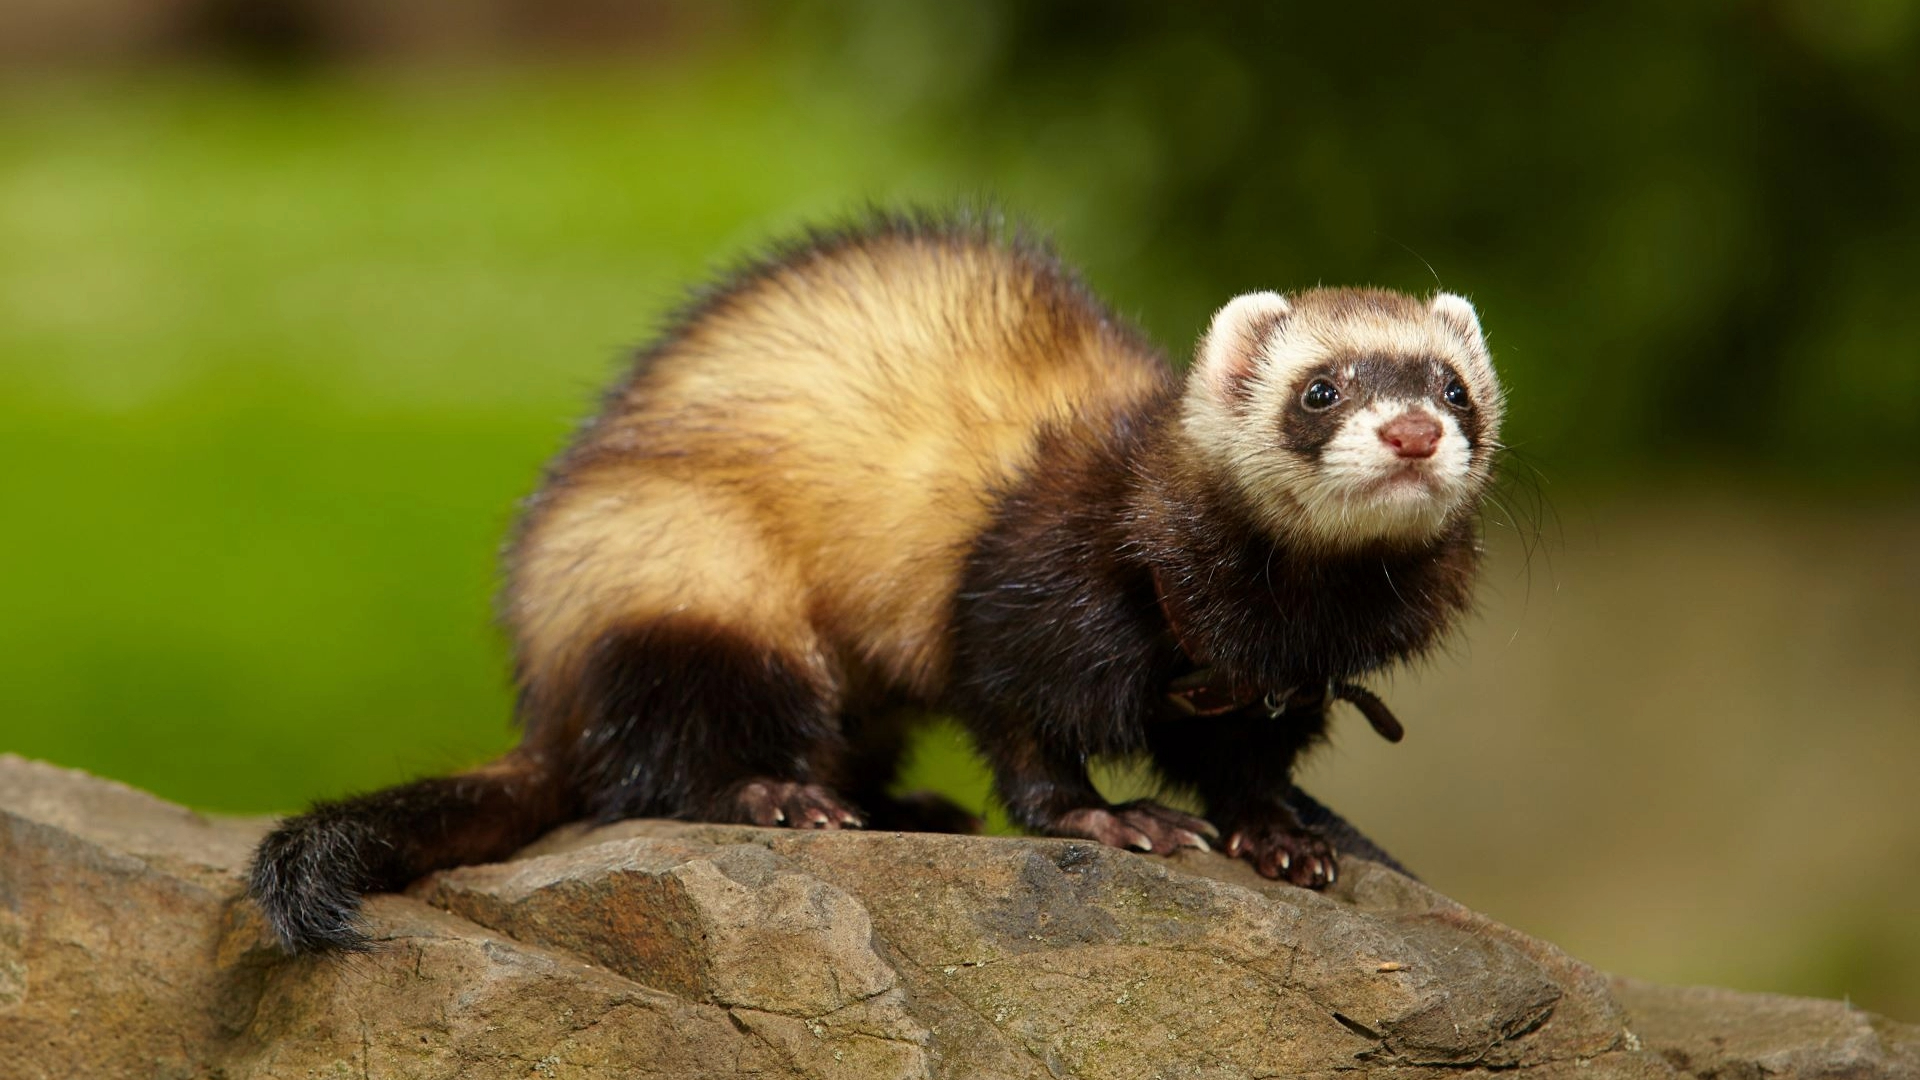Talulah: (256, 199, 1511, 964)
